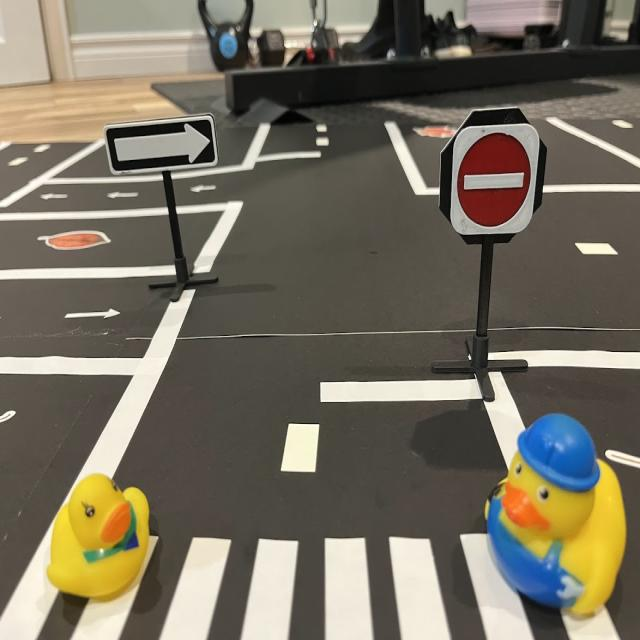duck_regular: (47, 475, 158, 605)
duck_specialty: (485, 415, 627, 611)
road_crosswalk: (68, 530, 541, 640)
road_oneway: (64, 307, 127, 329), (37, 186, 74, 204), (105, 187, 142, 205), (190, 182, 222, 197)
sign_noentry: (455, 126, 532, 237)
sign_oneway_right: (104, 119, 217, 176)
